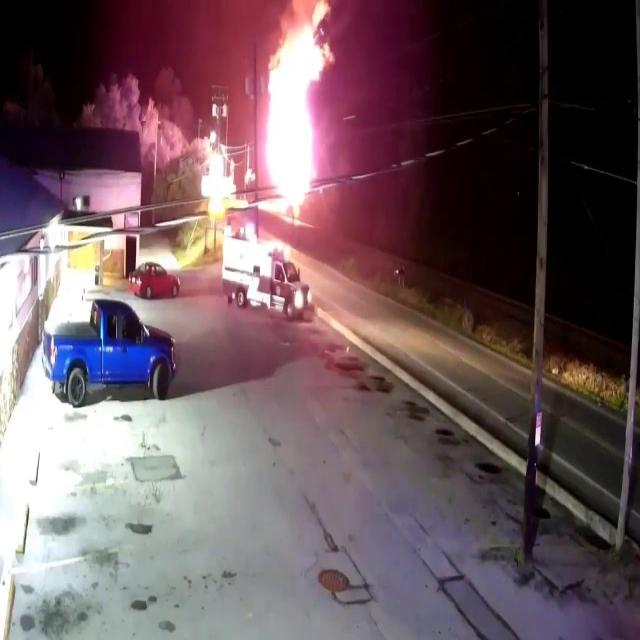Fire: (261, 22, 329, 196)
